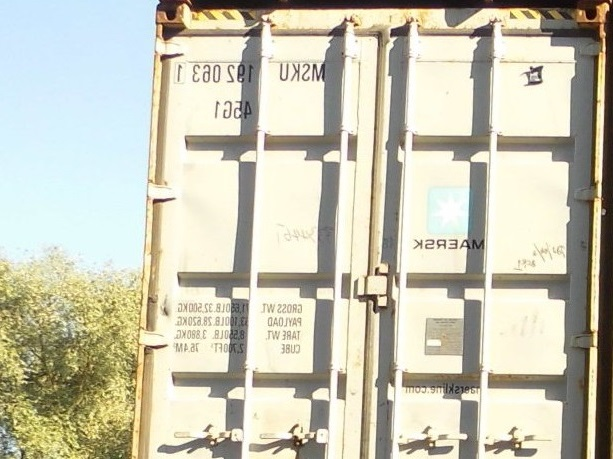container_door: (131, 1, 597, 458)
